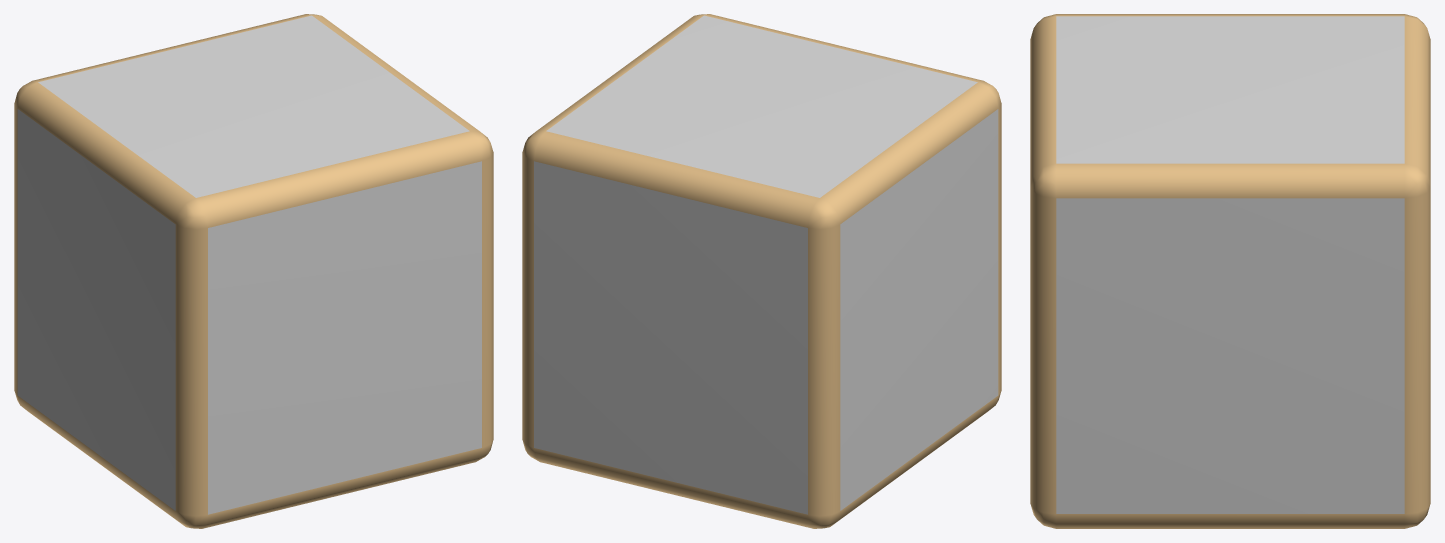
The model's file is block-Cc9nAWyV.glb.
3 views of the same model, side by side, from view 1: azimuth 30°, elevation 25°; view 2: azimuth 150°, elevation 25°; view 3: azimuth 270°, elevation 25° (orthographic). The views are drawn at different scales.
Parts seen in each view (by area): view 1: block_surfaces; view 2: block_surfaces; view 3: block_surfaces.
Part boxes in pixels (x1,y1,x2,y2): block_surfaces: (14, 14, 493, 528); block_surfaces: (522, 14, 1001, 528); block_surfaces: (1030, 14, 1430, 528).
Bounding box in the file's own units: 1 × 1 × 1.
